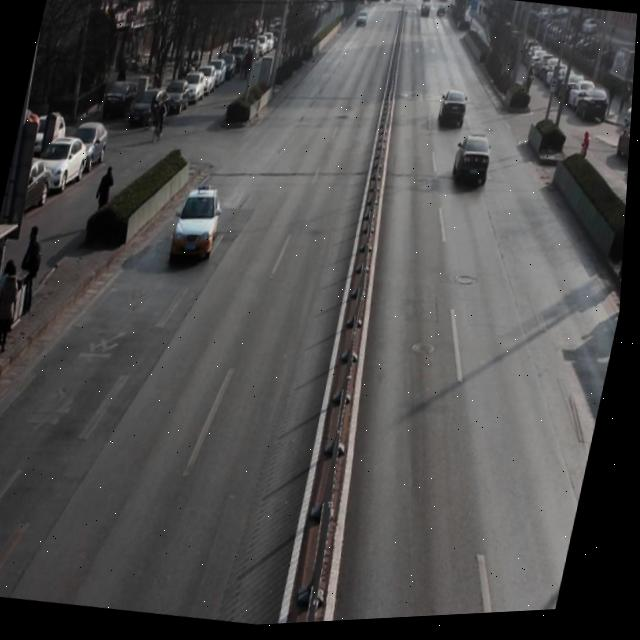car: (172, 183, 231, 267), (451, 138, 500, 200), (436, 90, 475, 139)
